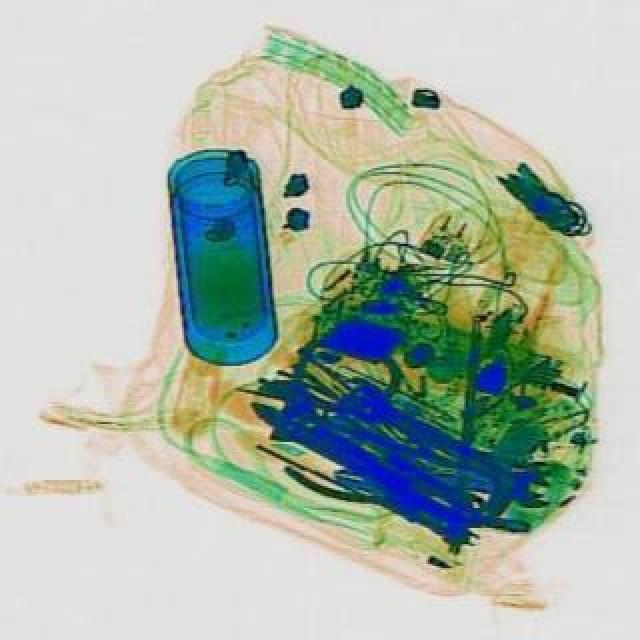scissors: (226, 358, 494, 558), (344, 376, 556, 516)
